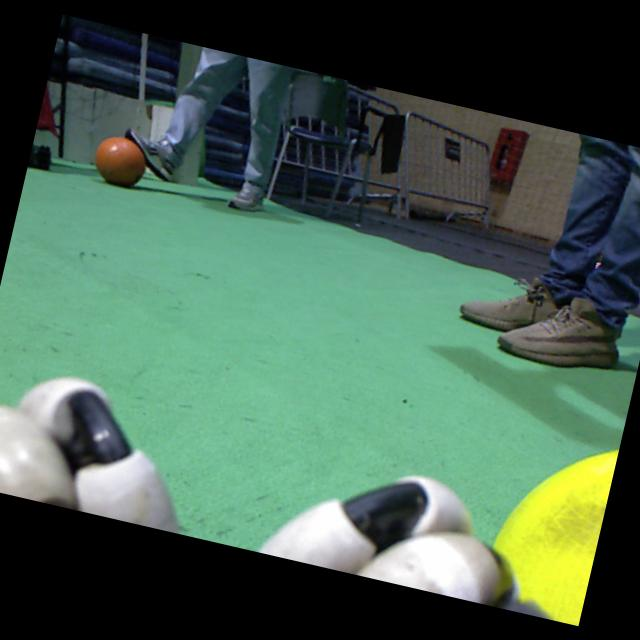ball: (493, 448, 618, 624), (95, 137, 144, 186)
goal: (176, 124, 204, 186)
